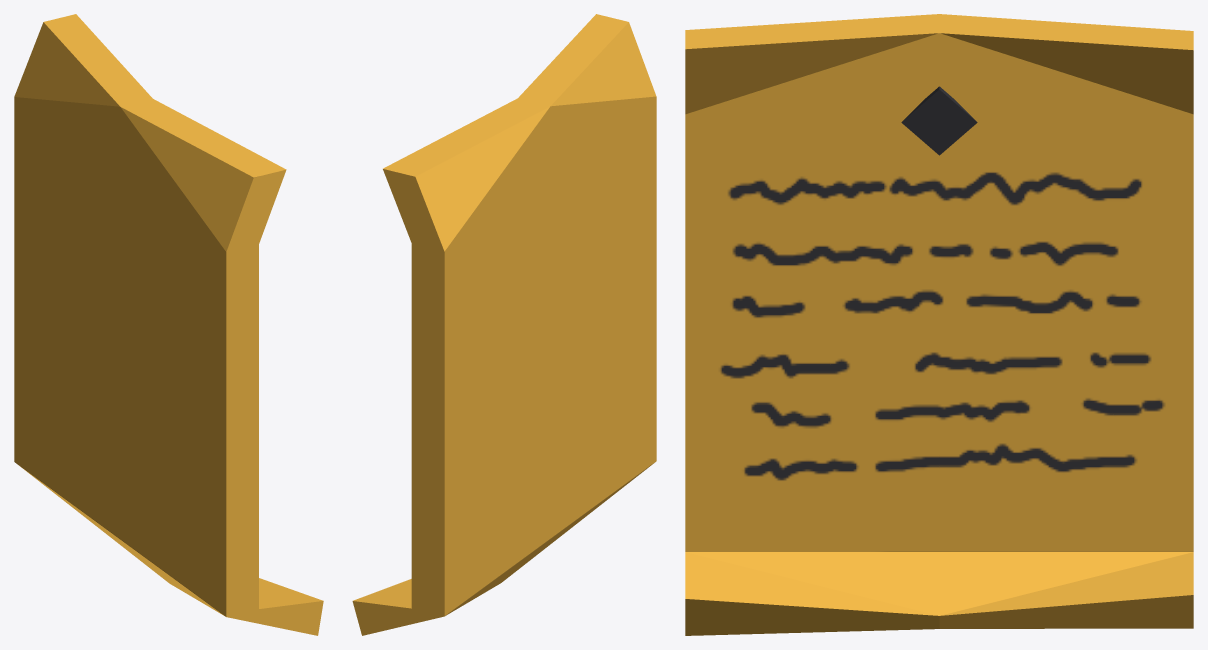
File: Note.glb
3 views of the same model, side by side, from view 1: azimuth 30°, elevation 25°; view 2: azimuth 150°, elevation 25°; view 3: azimuth 270°, elevation 25° (orthographic). The views are drawn at different scales.
Parts seen in each view (by area): view 1: Cone; view 2: Cone; view 3: Cone.
Boxes of the visible parts, x1=… form: Cone: x1=14, y1=14, x2=323, y2=635; Cone: x1=352, y1=14, x2=656, y2=635; Cone: x1=685, y1=14, x2=1193, y2=635.
Bounding box in the file's own units: 0.0488 × 0.2343 × 0.1842.
Materials: 1 (1 with a texture image).
